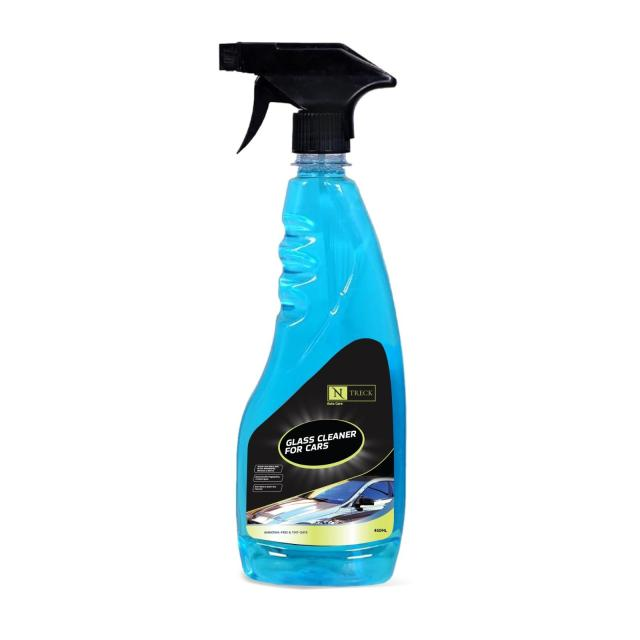winwinshield_washer: (216, 36, 410, 589)
